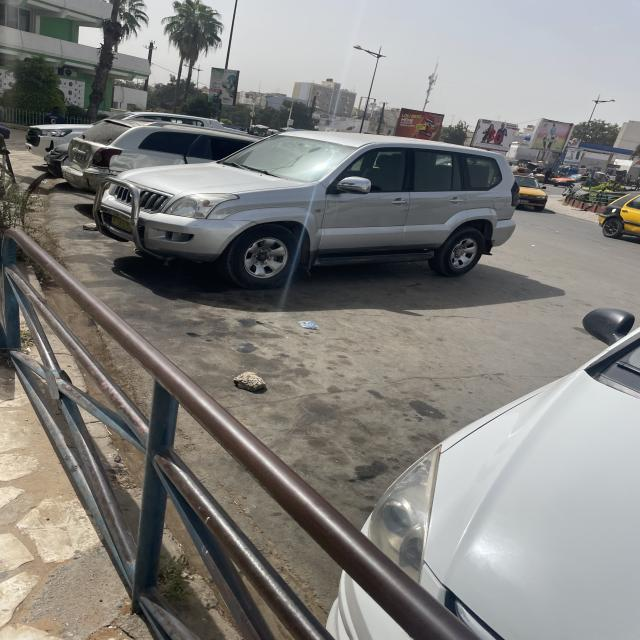particulier: (329, 306, 640, 640), (91, 129, 518, 285), (61, 117, 268, 201)
taxi: (595, 191, 640, 246), (515, 173, 551, 215), (550, 174, 586, 190)
